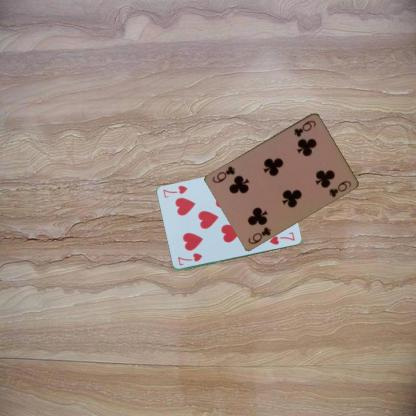6c: (291, 117, 317, 138), (246, 224, 272, 245)
7h: (175, 251, 203, 267)
